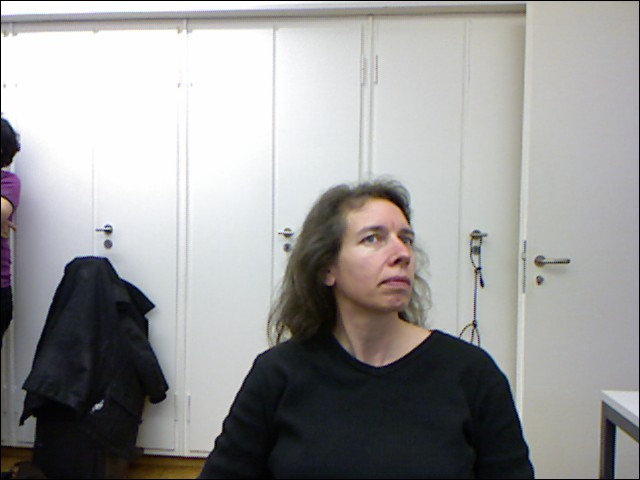deflection: (256, 183, 484, 477)
